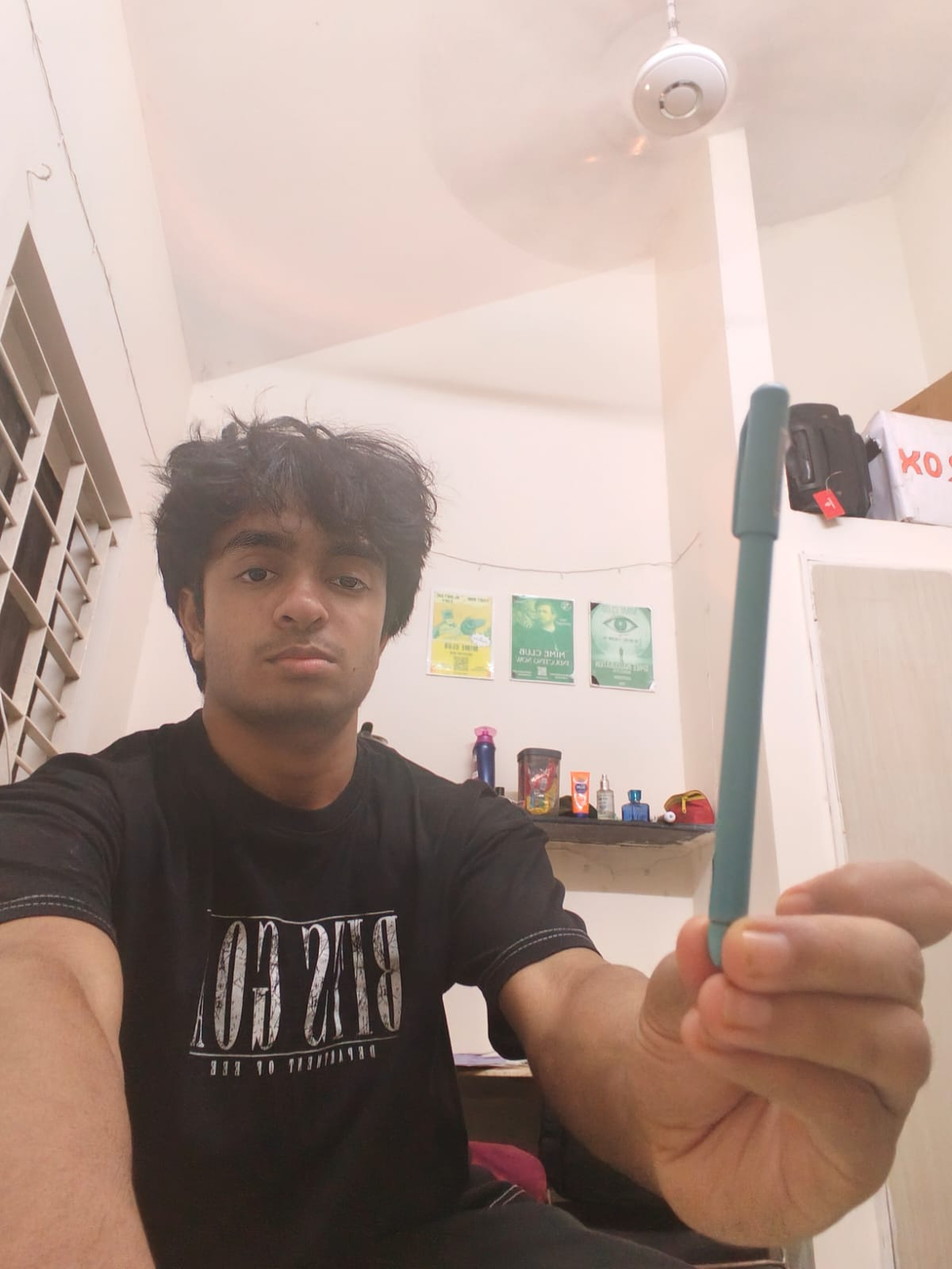pen: (655, 368, 814, 1007)
